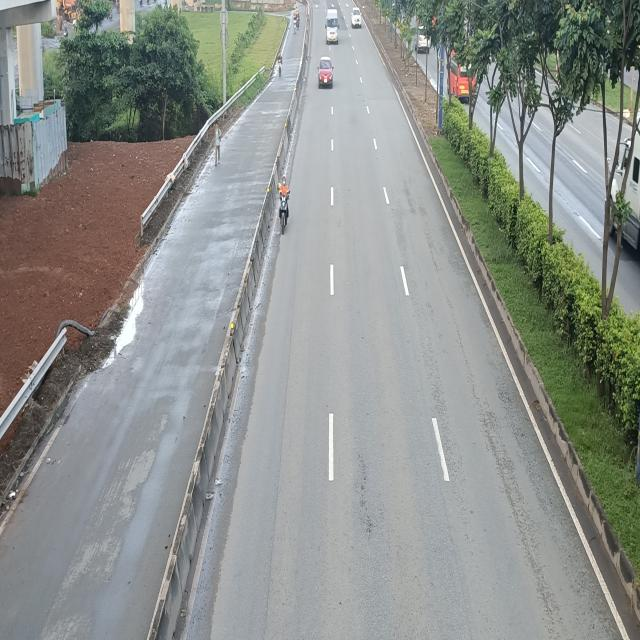car: (318, 58, 334, 90)
van: (325, 8, 339, 44)
